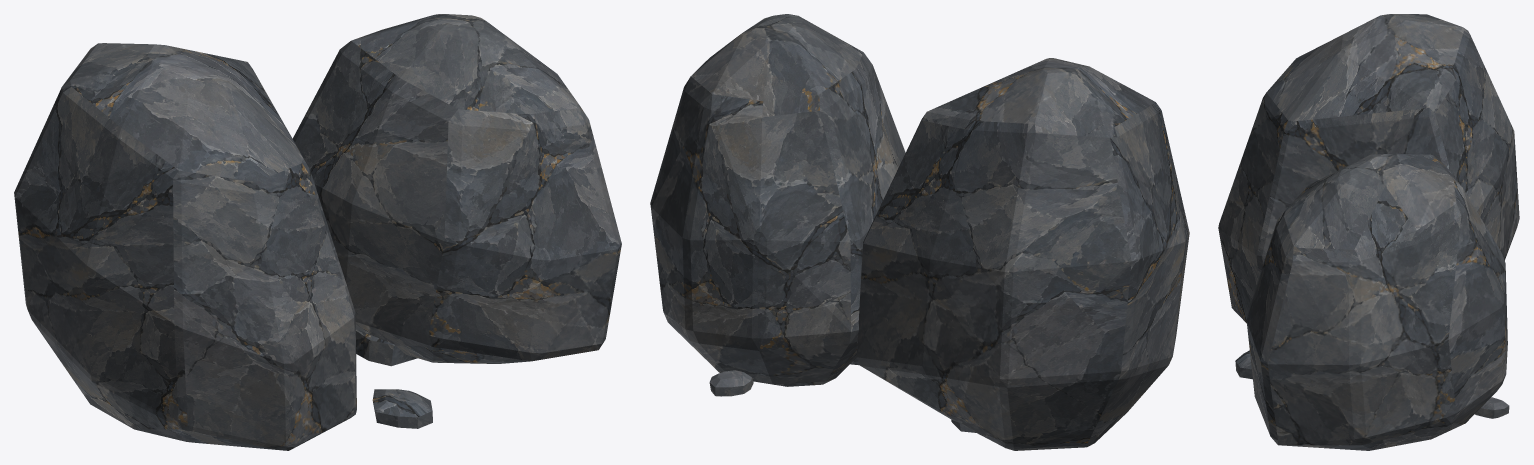
File: Cave_R06_SplitBoulder.fbx
3 renders of one model, left to right at view 1: azimuth 30°, elevation 25°; view 2: azimuth 150°, elevation 25°; view 3: azimuth 270°, elevation 25°, orthographic. The views are drawn at different scales.
Visible parts, largest first — view 1: Cave_R06_SplitBoulder_LOD0; view 2: Cave_R06_SplitBoulder_LOD0; view 3: Cave_R06_SplitBoulder_LOD0.
Part boxes in pixels (bbox=[...]): Cave_R06_SplitBoulder_LOD0: bbox=[14, 14, 621, 450]; Cave_R06_SplitBoulder_LOD0: bbox=[650, 14, 1189, 450]; Cave_R06_SplitBoulder_LOD0: bbox=[1218, 14, 1519, 450].
Size of what is drawn, in the model's own units: 2.62 by 1.71 by 1.59.
1 material, 1 textured.
